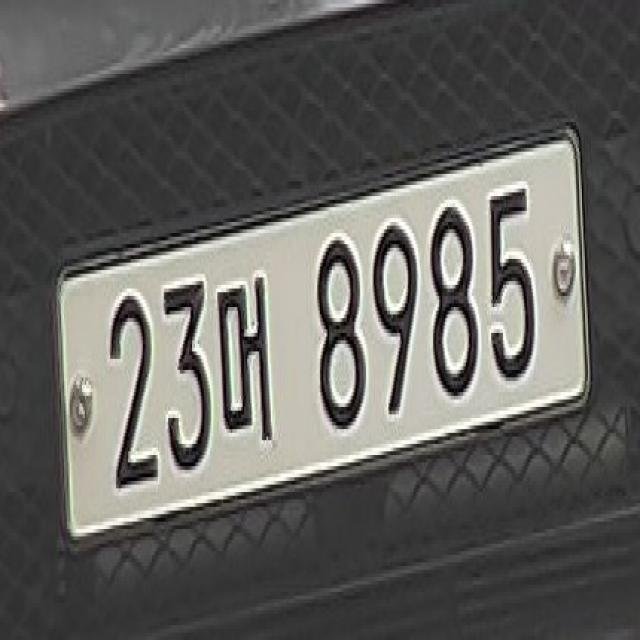2: (97, 281, 164, 503)
3: (154, 256, 221, 487)
5: (481, 160, 554, 391)
8: (304, 226, 375, 443), (423, 193, 486, 417)
9: (366, 199, 432, 423)
license_plate: (55, 132, 588, 539)
meo: (212, 265, 280, 463)
